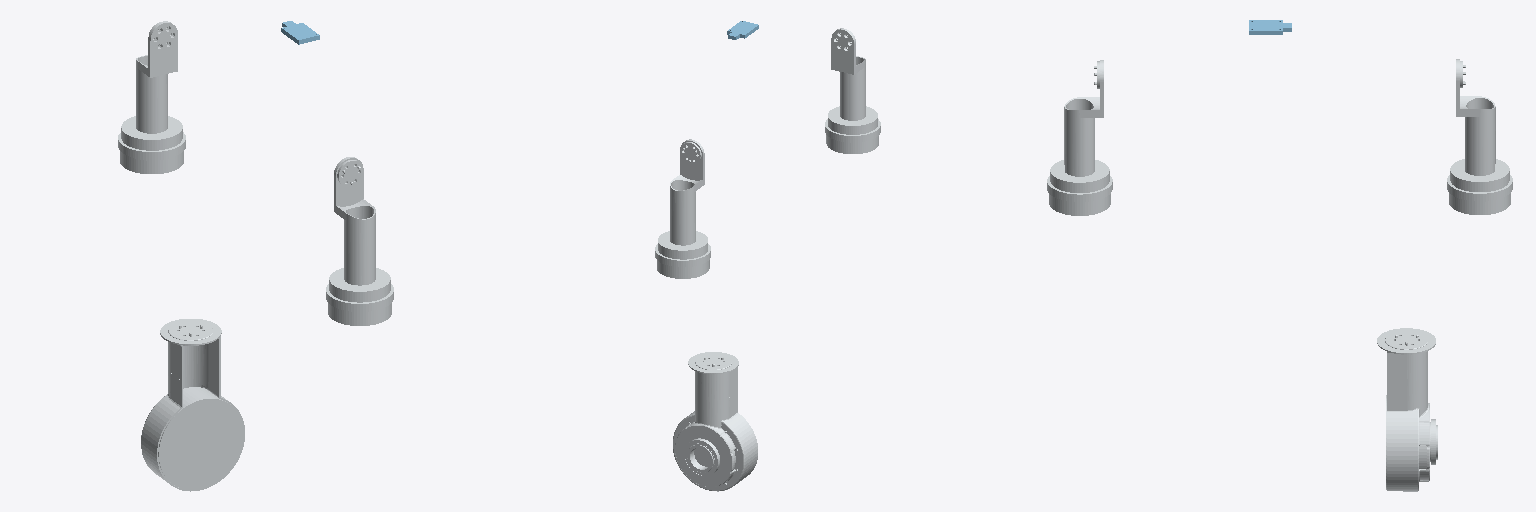
The robot description file, URDF, robot "k-bot_sim":
<?xml version="1.0" ?>
<robot name="k-bot_sim">
  <joint name="imu_link" type="fixed" dont_collapse="true">
    <origin xyz="0.040000 0 -0.131000" rpy="0 0 0"/>
    <parent link="body1-part"/>
    <child link="imu"/>
  </joint>
  <joint name="left_shoulder_pitch_03" type="fixed">
    <origin xyz="0.000002 -0.191000 0.019999" rpy="1.570000 0 -3.140000"/>
    <parent link="body1-part"/>
    <child link="shoulder"/>
    <limit effort="60" velocity="6.283" lower="0" upper="3.141593"/>
    <axis xyz="0 0 1"/>
  </joint>
  <joint name="right_shoulder_pitch_03" type="fixed">
    <origin xyz="-0.000002 0.191000 0.019999" rpy="-1.570000 0 -3.140000"/>
    <parent link="body1-part"/>
    <child link="shoulder_2"/>
    <limit effort="60" velocity="6.283" lower="-3.141593" upper="0"/>
    <axis xyz="0 0 1"/>
  </joint>
  <joint name="left_shoulder_roll_03" type="fixed">
    <origin xyz="0.023512 0.000056 -0.067500" rpy="1.570796 0 1.570796"/>
    <parent link="shoulder"/>
    <child link="arm1_top"/>
    <limit effort="60" velocity="6.283" lower="-3.630285" upper="0.479966"/>
    <axis xyz="0 0 -1"/>
  </joint>
  <joint name="right_shoulder_roll_03" type="fixed">
    <origin xyz="0.023512 -0.000056 -0.067500" rpy="1.570796 0 -1.570796"/>
    <parent link="shoulder_2"/>
    <child link="arm1_top_2"/>
    <limit effort="60" velocity="6.283" lower="-0.479966" upper="3.630285"/>
    <axis xyz="0 0 1"/>
  </joint>
  <joint name="left_hip_pitch_04" type="revolute">
    <origin xyz="-0.000002 -0.091000 -0.430001" rpy="1.570000 0 3.140000"/>
    <parent link="body1-part"/>
    <child link="leg0_shell"/>
    <limit effort="120" velocity="6.283" lower="-1.570796" upper="1.570796"/>
    <axis xyz="0 0 1"/>
  </joint>
  <joint name="right_hip_pitch_04" type="revolute">
    <origin xyz="0.000002 0.091000 -0.430001" rpy="-1.570000 0 3.140000"/>
    <parent link="body1-part"/>
    <child link="leg0_shell_2"/>
    <limit effort="120" velocity="6.283" lower="-1.570796" upper="1.570796"/>
    <axis xyz="0 0 1"/>
  </joint>
  <joint name="left_shoulder_yaw_02" type="fixed">
    <origin xyz="-0.140500 0 -0.023500" rpy="-1.570796 0 -1.570796"/>
    <parent link="arm1_top"/>
    <child link="arm2_shell"/>
    <limit effort="17" velocity="12.566" lower="-1.570796" upper="1.570796"/>
    <axis xyz="0 0 1"/>
  </joint>
  <joint name="right_shoulder_yaw_02" type="fixed">
    <origin xyz="-0.140500 0 0.022500" rpy="-3.141593 1.570796 0"/>
    <parent link="arm1_top_2"/>
    <child link="arm2_shell_2"/>
    <limit effort="17" velocity="12.566" lower="-1.570796" upper="1.570796"/>
    <axis xyz="0 0 -1"/>
  </joint>
  <joint name="left_hip_roll_03" type="revolute">
    <origin xyz="0.027500 0 -0.069500" rpy="-1.570796 0 1.570796"/>
    <parent link="leg0_shell"/>
    <child link="leg1_shell"/>
    <limit effort="60" velocity="6.283" lower="-3.185226" upper="0.349066"/>
    <axis xyz="0 0 1"/>
  </joint>
  <joint name="right_hip_roll_03" type="revolute">
    <origin xyz="0.027500 0 -0.069000" rpy="1.570796 0 -1.570796"/>
    <parent link="leg0_shell_2"/>
    <child link="leg1_shell3"/>
    <limit effort="60" velocity="6.283" lower="-0.349066" upper="3.185226"/>
    <axis xyz="0 0 1"/>
  </joint>
  <joint name="left_elbow_02" type="fixed">
    <origin xyz="-0.027000 0 -0.098000" rpy="-3.141593 -1.570796 0"/>
    <parent link="arm2_shell"/>
    <child link="arm3_shell"/>
    <limit effort="17" velocity="12.566" lower="-2.530727" upper="0"/>
    <axis xyz="0 0 1"/>
  </joint>
  <joint name="right_elbow_02" type="fixed">
    <origin xyz="0 -0.027000 0.097500" rpy="-1.570796 1.570796 0"/>
    <parent link="arm2_shell_2"/>
    <child link="arm3_shell2"/>
    <limit effort="17" velocity="12.566" lower="0" upper="2.530727"/>
    <axis xyz="0 0 1"/>
  </joint>
  <joint name="left_hip_yaw_03" type="revolute">
    <origin xyz="-0.157500 0.000120 0.027500" rpy="0 1.570796 0"/>
    <parent link="leg1_shell"/>
    <child link="leg2_shell"/>
    <limit effort="60" velocity="6.283" lower="-1.570796" upper="1.570796"/>
    <axis xyz="0 0 1"/>
  </joint>
  <joint name="right_hip_yaw_03" type="revolute">
    <origin xyz="-0.157500 -0.000120 0.027500" rpy="-3.141593 -1.570796 0"/>
    <parent link="leg1_shell3"/>
    <child link="leg2_shell_2"/>
    <limit effort="60" velocity="6.283" lower="-1.570796" upper="1.570796"/>
    <axis xyz="0 0 1"/>
  </joint>
  <joint name="left_wrist_02" type="fixed">
    <origin xyz="-0.182500 0 0.021500" rpy="-1.570796 0 -1.570796"/>
    <parent link="arm3_shell"/>
    <child link="hand_shell"/>
    <limit effort="17" velocity="12.566" lower="-3.141593" upper="3.141593"/>
    <axis xyz="0 0 1"/>
  </joint>
  <joint name="right_wrist_02" type="fixed">
    <origin xyz="-0.182500 0 0.021500" rpy="1.570796 0 1.570796"/>
    <parent link="arm3_shell2"/>
    <child link="hand_shell_2"/>
    <limit effort="17" velocity="12.566" lower="-3.141593" upper="3.141593"/>
    <axis xyz="0 0 1"/>
  </joint>
  <joint name="left_knee_04" type="revolute">
    <origin xyz="0 -0.027000 -0.142500" rpy="1.570796 0 0"/>
    <parent link="leg2_shell"/>
    <child link="leg3_shell1"/>
    <limit effort="120" velocity="6.283" lower="0" upper="2.094395"/>
    <axis xyz="0 0 -1"/>
  </joint>
  <joint name="right_knee_04" type="revolute">
    <origin xyz="0 -0.027000 -0.142500" rpy="1.570796 0 0"/>
    <parent link="leg2_shell_2"/>
    <child link="leg3_shell11"/>
    <limit effort="120" velocity="6.283" lower="-2.094395" upper="0"/>
    <axis xyz="0 0 -1"/>
  </joint>
  <joint name="right_ankle_02" type="revolute">
    <origin xyz="0 -0.300000 -0.035500" rpy="3.141593 0 3.141593"/>
    <parent link="leg3_shell11"/>
    <child link="foot3"/>
    <limit effort="17" velocity="12.566" lower="-0.698132" upper="0.698132"/>
    <axis xyz="0 0 1.0"/>
  </joint>
  <joint name="left_ankle_02" type="revolute">
    <origin xyz="0 -0.300000 0.009500" rpy="0 0 0"/>
    <parent link="leg3_shell1"/>
    <child link="foot1"/>
    <limit effort="17" velocity="12.566" lower="-0.698132" upper="0.698132"/>
    <axis xyz="0 0 -1"/>
  </joint>
  <link name="body1-part">
    <visual name="body1-part_visual">
      <origin xyz="0 0 0" rpy="1.570000 0 0"/>
      <geometry name="body1-part_geometry">
        <mesh filename="meshes/body1-part.stl"/>
      </geometry>
      <material name="body1-part_material">
        <color rgba="1 1 1 1"/>
      </material>
    </visual>
    <collision name="body1-part.collision">
      <origin xyz="0 0 0" rpy="1.570000 0 0"/>
      <geometry name="body1-part_collision_geometry">
        <mesh filename="meshes/body1-part.collision.stl"/>
      </geometry>
    </collision>
    <inertial name="body1-part_inertial">
      <mass value="9.415838"/>
      <inertia ixx="0.406102" iyy="0.096732" izz="0.321504" ixy="0.001018" ixz="0.000014" iyz="-0.000180"/>
      <origin xyz="-0.000153 -0.214129 -0.000094" rpy="1.570000 0 0"/>
    </inertial>
  </link>
  <link name="imu">
    <visual name="imu_visual">
      <origin xyz="0 0 0" rpy="0 0 0"/>
      <geometry name="imu_geometry">
        <mesh filename="meshes/imu.stl"/>
      </geometry>
      <material name="imu_material">
        <color rgba="0.615686 0.811765 0.929412 1"/>
      </material>
    </visual>
    <inertial name="imu_inertial">
      <mass value="0.010000"/>
      <inertia ixx="0.000001" iyy="0.000001" izz="0.000002" ixy="0" ixz="0" iyz="0"/>
      <origin xyz="-0.007500 0 0.006000" rpy="0 0 0"/>
    </inertial>
  </link>
  <link name="shoulder">
    <visual name="shoulder_visual">
      <origin xyz="0 0 0" rpy="0 0 0"/>
      <geometry name="shoulder_geometry">
        <mesh filename="meshes/shoulder.stl"/>
      </geometry>
      <material name="shoulder_material">
        <color rgba="1 1 1 1"/>
      </material>
    </visual>
    <collision name="shoulder.collision">
      <origin xyz="0 0 0" rpy="0 0 0"/>
      <geometry name="shoulder_collision_geometry">
        <mesh filename="meshes/shoulder.collision.stl"/>
      </geometry>
    </collision>
    <inertial name="shoulder_inertial">
      <mass value="1.107356"/>
      <inertia ixx="0.001481" iyy="0.001039" izz="0.000986" ixy="0" ixz="-0.000003" iyz="0"/>
      <origin xyz="-0.002144 0.000055 -0.066483" rpy="0 0 0"/>
    </inertial>
  </link>
  <link name="shoulder_2">
    <visual name="shoulder_visual_2">
      <origin xyz="0 0 0" rpy="0 0 0"/>
      <geometry name="shoulder_geometry_2">
        <mesh filename="meshes/shoulder_2.stl"/>
      </geometry>
      <material name="shoulder_material_2">
        <color rgba="1 1 1 1"/>
      </material>
    </visual>
    <collision name="shoulder.collision_2">
      <origin xyz="0 0 0" rpy="0 0 0"/>
      <geometry name="shoulder_collision_geometry_2">
        <mesh filename="meshes/shoulder_2.collision.stl"/>
      </geometry>
    </collision>
    <inertial name="shoulder_inertial_2">
      <mass value="1.107354"/>
      <inertia ixx="0.001481" iyy="0.001039" izz="0.000986" ixy="0" ixz="-0.000003" iyz="0"/>
      <origin xyz="-0.002144 -0.000055 -0.066483" rpy="0 0 0"/>
    </inertial>
  </link>
  <link name="arm1_top">
    <visual name="arm1_top_visual">
      <origin xyz="0 0 0" rpy="0 0 0"/>
      <geometry name="arm1_top_geometry">
        <mesh filename="meshes/arm1_top.stl"/>
      </geometry>
      <material name="arm1_top_material">
        <color rgba="0.898039 0.917647 0.929412 1"/>
      </material>
    </visual>
    <inertial name="arm1_top_inertial">
      <mass value="0.572732"/>
      <inertia ixx="0.000453" iyy="0.001076" izz="0.001035" ixy="0" ixz="-0.000195" iyz="0"/>
      <origin xyz="-0.099486 -0.000001 -0.019082" rpy="0 0 0"/>
    </inertial>
  </link>
  <link name="arm1_top_2">
    <visual name="arm1_top_2_visual">
      <origin xyz="0 0 0" rpy="0 0 0"/>
      <geometry name="arm1_top_2_geometry">
        <mesh filename="meshes/arm1_top_2.stl"/>
      </geometry>
      <material name="arm1_top_2_material">
        <color rgba="0.898039 0.917647 0.929412 1"/>
      </material>
    </visual>
    <inertial name="arm1_top_2_inertial">
      <mass value="0.572732"/>
      <inertia ixx="0.000453" iyy="0.001076" izz="0.001035" ixy="0" ixz="0.000195" iyz="0"/>
      <origin xyz="-0.099486 -0.000001 0.018082" rpy="0 0 0"/>
    </inertial>
  </link>
  <link name="leg0_shell">
    <visual name="leg0_shell_visual">
      <origin xyz="0 0 0" rpy="0 0 0"/>
      <geometry name="leg0_shell_geometry">
        <mesh filename="meshes/leg0_shell.stl"/>
      </geometry>
      <material name="leg0_shell_material">
        <color rgba="0.898039 0.917647 0.929412 1"/>
      </material>
    </visual>
    <collision name="leg0_shell.collision">
      <origin xyz="0 0 0" rpy="0 0 0"/>
      <geometry name="leg0_shell_collision_geometry">
        <mesh filename="meshes/leg0_shell.collision.stl"/>
      </geometry>
    </collision>
    <inertial name="leg0_shell_inertial">
      <mass value="1.323448"/>
      <inertia ixx="0.001886" iyy="0.001425" izz="0.001300" ixy="0" ixz="0.000007" iyz="0"/>
      <origin xyz="-0.003746 0 -0.068125" rpy="0 0 0"/>
    </inertial>
  </link>
  <link name="leg0_shell_2">
    <visual name="leg0_shell_visual_2">
      <origin xyz="0 0 0" rpy="0 0 0"/>
      <geometry name="leg0_shell_geometry_2">
        <mesh filename="meshes/leg0_shell_2.stl"/>
      </geometry>
      <material name="leg0_shell_material_2">
        <color rgba="0.898039 0.917647 0.929412 1"/>
      </material>
    </visual>
    <collision name="leg0_shell.collision_2">
      <origin xyz="0 0 0" rpy="0 0 0"/>
      <geometry name="leg0_shell_collision_geometry_2">
        <mesh filename="meshes/leg0_shell_2.collision.stl"/>
      </geometry>
    </collision>
    <inertial name="leg0_shell_inertial_2">
      <mass value="1.323448"/>
      <inertia ixx="0.001886" iyy="0.001425" izz="0.001300" ixy="0" ixz="0.000007" iyz="0"/>
      <origin xyz="-0.003746 0 -0.067625" rpy="0 0 0"/>
    </inertial>
  </link>
  <link name="arm2_shell">
    <visual name="arm2_shell_visual">
      <origin xyz="0 0 0" rpy="0 0 0"/>
      <geometry name="arm2_shell_geometry">
        <mesh filename="meshes/arm2_shell.stl"/>
      </geometry>
      <material name="arm2_shell_material">
        <color rgba="0.898039 0.917647 0.929412 1"/>
      </material>
    </visual>
    <inertial name="arm2_shell_inertial">
      <mass value="0.510678"/>
      <inertia ixx="0.000675" iyy="0.000532" izz="0.000255" ixy="0" ixz="-0.000006" iyz="0"/>
      <origin xyz="-0.006339 0 -0.090482" rpy="0 0 0"/>
    </inertial>
  </link>
  <link name="arm2_shell_2">
    <visual name="arm2_shell_visual_2">
      <origin xyz="0 0 0" rpy="0 0 0"/>
      <geometry name="arm2_shell_geometry_2">
        <mesh filename="meshes/arm2_shell_2.stl"/>
      </geometry>
      <material name="arm2_shell_material_2">
        <color rgba="0.898039 0.917647 0.929412 1"/>
      </material>
    </visual>
    <inertial name="arm2_shell_inertial_2">
      <mass value="0.510678"/>
      <inertia ixx="0.000532" iyy="0.000675" izz="0.000255" ixy="0" ixz="0" iyz="0.000006"/>
      <origin xyz="0 -0.006339 0.089982" rpy="0 0 0"/>
    </inertial>
  </link>
  <link name="leg1_shell">
    <visual name="leg1_shell_visual">
      <origin xyz="0 0 0" rpy="0 0 0"/>
      <geometry name="leg1_shell_geometry">
        <mesh filename="meshes/leg1_shell.stl"/>
      </geometry>
      <material name="leg1_shell_material">
        <color rgba="0.898039 0.917647 0.929412 1"/>
      </material>
    </visual>
    <inertial name="leg1_shell_inertial">
      <mass value="1.264352"/>
      <inertia ixx="0.001481" iyy="0.002486" izz="0.002413" ixy="-0.000018" ixz="0.000290" iyz="-0.000002"/>
      <origin xyz="-0.112524 0.000529 0.025259" rpy="0 0 0"/>
    </inertial>
  </link>
  <link name="leg1_shell3">
    <visual name="leg1_shell3_visual">
      <origin xyz="0 0 0" rpy="0 0 0"/>
      <geometry name="leg1_shell3_geometry">
        <mesh filename="meshes/leg1_shell3.stl"/>
      </geometry>
      <material name="leg1_shell3_material">
        <color rgba="0.898039 0.917647 0.929412 1"/>
      </material>
    </visual>
    <inertial name="leg1_shell3_inertial">
      <mass value="1.264352"/>
      <inertia ixx="0.001481" iyy="0.002486" izz="0.002413" ixy="0.000018" ixz="0.000290" iyz="0.000002"/>
      <origin xyz="-0.112524 -0.000529 0.025259" rpy="0 0 0"/>
    </inertial>
  </link>
  <link name="arm3_shell">
    <visual name="arm3_shell_visual">
      <origin xyz="0 0 0" rpy="0 0 0"/>
      <geometry name="arm3_shell_geometry">
        <mesh filename="meshes/arm3_shell.stl"/>
      </geometry>
      <material name="arm3_shell_material">
        <color rgba="0.898039 0.917647 0.929412 1"/>
      </material>
    </visual>
    <inertial name="arm3_shell_inertial">
      <mass value="0.578536"/>
      <inertia ixx="0.000428" iyy="0.001354" izz="0.001332" ixy="0" ixz="0.000144" iyz="0"/>
      <origin xyz="-0.140169 0 0.019433" rpy="0 0 0"/>
    </inertial>
  </link>
  <link name="arm3_shell2">
    <visual name="arm3_shell2_visual">
      <origin xyz="0 0 0" rpy="0 0 0"/>
      <geometry name="arm3_shell2_geometry">
        <mesh filename="meshes/arm3_shell2.stl"/>
      </geometry>
      <material name="arm3_shell2_material">
        <color rgba="0.898039 0.917647 0.929412 1"/>
      </material>
    </visual>
    <inertial name="arm3_shell2_inertial">
      <mass value="0.578536"/>
      <inertia ixx="0.000428" iyy="0.001354" izz="0.001332" ixy="0" ixz="0.000144" iyz="0"/>
      <origin xyz="-0.140169 0 0.019433" rpy="0 0 0"/>
    </inertial>
  </link>
  <link name="leg2_shell">
    <visual name="leg2_shell_visual">
      <origin xyz="0 0 0" rpy="0 0 0"/>
      <geometry name="leg2_shell_geometry">
        <mesh filename="meshes/leg2_shell.stl"/>
      </geometry>
      <material name="leg2_shell_material">
        <color rgba="0.898039 0.917647 0.929412 1"/>
      </material>
    </visual>
    <inertial name="leg2_shell_inertial">
      <mass value="1.820923"/>
      <inertia ixx="0.003118" iyy="0.004225" izz="0.002064" ixy="0" ixz="0" iyz="-0.000034"/>
      <origin xyz="0 0.000532 -0.137308" rpy="0 0 0"/>
    </inertial>
  </link>
  <link name="leg2_shell_2">
    <visual name="leg2_shell_visual_2">
      <origin xyz="0 0 0" rpy="0 0 0"/>
      <geometry name="leg2_shell_geometry_2">
        <mesh filename="meshes/leg2_shell_2.stl"/>
      </geometry>
      <material name="leg2_shell_material_2">
        <color rgba="0.898039 0.917647 0.929412 1"/>
      </material>
    </visual>
    <inertial name="leg2_shell_inertial_2">
      <mass value="1.820923"/>
      <inertia ixx="0.003118" iyy="0.004225" izz="0.002064" ixy="0" ixz="0" iyz="-0.000034"/>
      <origin xyz="0 0.000532 -0.137308" rpy="0 0 0"/>
    </inertial>
  </link>
  <link name="hand_shell">
    <visual name="hand_shell_visual">
      <origin xyz="0 0 0" rpy="0 0 0"/>
      <geometry name="hand_shell_geometry">
        <mesh filename="meshes/hand_shell.stl"/>
      </geometry>
      <material name="hand_shell_material">
        <color rgba="0.898039 0.917647 0.929412 1"/>
      </material>
    </visual>
    <collision name="hand_shell.collision">
      <origin xyz="0 0 0" rpy="0 0 0"/>
      <geometry name="hand_shell_collision_geometry">
        <mesh filename="meshes/hand_shell.collision.stl"/>
      </geometry>
    </collision>
    <inertial name="hand_shell_inertial">
      <mass value="0.793063"/>
      <inertia ixx="0.002034" iyy="0.002869" izz="0.001280" ixy="0" ixz="-0.000023" iyz="0.000004"/>
      <origin xyz="0.000709 0.000130 -0.074657" rpy="0 0 0"/>
    </inertial>
  </link>
  <link name="hand_shell_2">
    <visual name="hand_shell_visual_2">
      <origin xyz="0 0 0" rpy="0 0 0"/>
      <geometry name="hand_shell_geometry_2">
        <mesh filename="meshes/hand_shell_2.stl"/>
      </geometry>
      <material name="hand_shell_material_2">
        <color rgba="0.898039 0.917647 0.929412 1"/>
      </material>
    </visual>
    <collision name="hand_shell.collision_2">
      <origin xyz="0 0 0" rpy="0 0 0"/>
      <geometry name="hand_shell_collision_geometry_2">
        <mesh filename="meshes/hand_shell_2.collision.stl"/>
      </geometry>
    </collision>
    <inertial name="hand_shell_inertial_2">
      <mass value="0.793063"/>
      <inertia ixx="0.002034" iyy="0.002869" izz="0.001280" ixy="0" ixz="-0.000023" iyz="0.000004"/>
      <origin xyz="0.000709 0.000130 -0.074657" rpy="0 0 0"/>
    </inertial>
  </link>
  <link name="leg3_shell1">
    <visual name="leg3_shell1_visual">
      <origin xyz="0 0 0" rpy="0 0 0"/>
      <geometry name="leg3_shell1_geometry">
        <mesh filename="meshes/leg3_shell1.stl"/>
      </geometry>
      <material name="leg3_shell1_material">
        <color rgba="0.898039 0.917647 0.929412 1"/>
      </material>
    </visual>
    <collision name="leg3_shell1.collision">
      <origin xyz="0 0 0" rpy="0 0 0"/>
      <geometry name="leg3_shell1_collision_geometry">
        <mesh filename="meshes/leg3_shell1.collision.stl"/>
      </geometry>
    </collision>
    <inertial name="leg3_shell1_inertial">
      <mass value="1.109955"/>
      <inertia ixx="0.006740" iyy="0.001013" izz="0.006746" ixy="0.000062" ixz="-0.000017" iyz="0.000013"/>
      <origin xyz="0.001098 -0.131322 -0.023162" rpy="0 0 0"/>
    </inertial>
  </link>
  <link name="leg3_shell11">
    <visual name="leg3_shell11_visual">
      <origin xyz="0 0 0" rpy="0 0 0"/>
      <geometry name="leg3_shell11_geometry">
        <mesh filename="meshes/leg3_shell11.stl"/>
      </geometry>
      <material name="leg3_shell11_material">
        <color rgba="0.898039 0.917647 0.929412 1"/>
      </material>
    </visual>
    <collision name="leg3_shell11.collision">
      <origin xyz="0 0 0" rpy="0 0 0"/>
      <geometry name="leg3_shell11_collision_geometry">
        <mesh filename="meshes/leg3_shell11.collision.stl"/>
      </geometry>
    </collision>
    <inertial name="leg3_shell11_inertial">
      <mass value="1.109962"/>
      <inertia ixx="0.006740" iyy="0.001013" izz="0.006746" ixy="-0.000062" ixz="0.000017" iyz="0.000013"/>
      <origin xyz="-0.001098 -0.131322 -0.023162" rpy="0 0 0"/>
    </inertial>
  </link>
  <link name="foot3">
    <visual name="foot3_visual">
      <origin xyz="0 0 0" rpy="0 0 0"/>
      <geometry name="foot3_geometry">
        <mesh filename="meshes/foot3.stl"/>
      </geometry>
      <material name="foot3_material">
        <color rgba="0.898039 0.917647 0.929412 1"/>
      </material>
    </visual>
    <collision name="foot3.collision">
      <origin xyz="0 0 0" rpy="0 0 0"/>
      <geometry name="foot3_collision_geometry">
        <mesh filename="meshes/foot3.collision.stl"/>
      </geometry>
    </collision>
    <inertial name="foot3_inertial">
      <mass value="0.582091"/>
      <inertia ixx="0.000284" iyy="0.002188" izz="0.002024" ixy="0.000040" ixz="0.000033" iyz="-0.000004"/>
      <origin xyz="0.021350 -0.019419 -0.023724" rpy="0 0 0"/>
    </inertial>
  </link>
  <link name="foot1">
    <visual name="foot1_visual">
      <origin xyz="0 0 0" rpy="0 0 0"/>
      <geometry name="foot1_geometry">
        <mesh filename="meshes/foot1.stl"/>
      </geometry>
      <material name="foot1_material">
        <color rgba="0.898039 0.917647 0.929412 1"/>
      </material>
    </visual>
    <collision name="foot1.collision">
      <origin xyz="0 0 0" rpy="0 0 0"/>
      <geometry name="foot1_collision_geometry">
        <mesh filename="meshes/foot1.collision.stl"/>
      </geometry>
    </collision>
    <inertial name="foot1_inertial">
      <mass value="0.582091"/>
      <inertia ixx="0.000284" iyy="0.002188" izz="0.002024" ixy="0.000040" ixz="-0.000033" iyz="0.000004"/>
      <origin xyz="0.021350 -0.019419 -0.019276" rpy="0 0 0"/>
    </inertial>
  </link>
</robot>

--- Facts derived from the render (not from the file) ---
Views: 3 orthographic renders of the robot side by side, from view 1: azimuth 30°, elevation 25°; view 2: azimuth 150°, elevation 25°; view 3: azimuth 270°, elevation 25°.
Model k-bot_sim with 22 links and 21 joints (10 revolute, 11 fixed), rooted at body1-part, posed all joints at 0.
Visible links, largest first — view 1: leg2_shell_2, arm3_shell, arm3_shell2, imu; view 2: leg2_shell_2, arm3_shell2, arm3_shell; view 3: leg2_shell_2, arm3_shell2, arm3_shell, imu.
Link boxes in pixels (<box>): leg2_shell_2: <box>141,319,244,491</box>; arm3_shell: <box>326,157,393,325</box>; arm3_shell2: <box>118,21,185,173</box>; imu: <box>281,21,319,44</box>; leg2_shell_2: <box>673,352,757,491</box>; arm3_shell2: <box>655,139,710,278</box>; arm3_shell: <box>825,28,880,153</box>; leg2_shell_2: <box>1377,328,1437,491</box>; arm3_shell2: <box>1447,59,1512,214</box>; arm3_shell: <box>1047,60,1112,215</box>; imu: <box>1249,20,1291,34</box>.
Bounding box of the posed robot: 0.1291 × 0.5884 × 0.6673 m (x, y, z).
Meshes: 22 distinct files referenced, 4 mesh visuals loaded (4 binary STL); not drawn: 18 (reference not matched to a file when rendering).